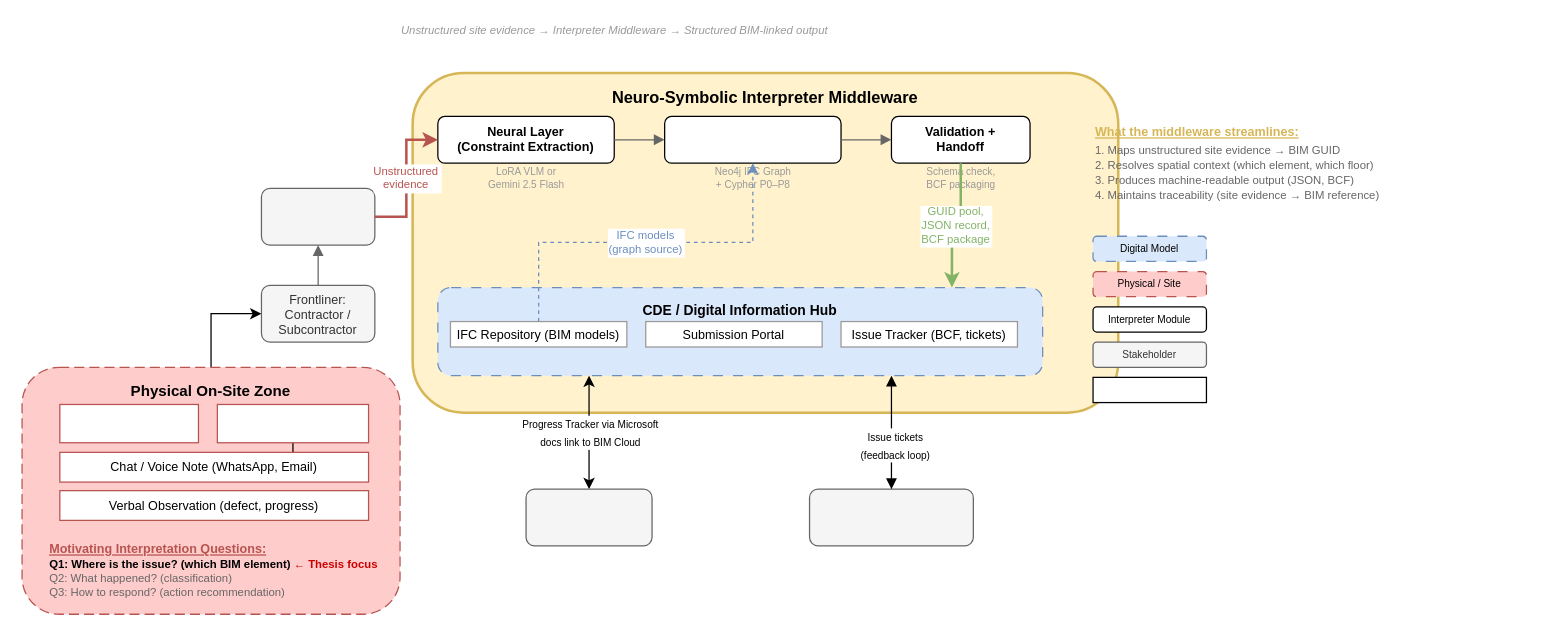
This 1556x636 diagram has some shape labels left out. The shapes that lost their labels are listed below. From the top down, each one's centre as x and y in pixels, then its label:
(752,139): Symbolic Layer (Query Planning + Graph Retrieval)
(317,216): Construction Managers / QA Engineer
(1149,389): File / data format / type
(128,423): Site Photo (JPEG / PNG)
(292,423): Floorplan (annotated PDF)
(588,517): Developers / Consultants
(890,517): Design / BIM Coordinator
